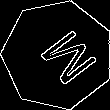M_SW: (23, 21, 93, 88)
